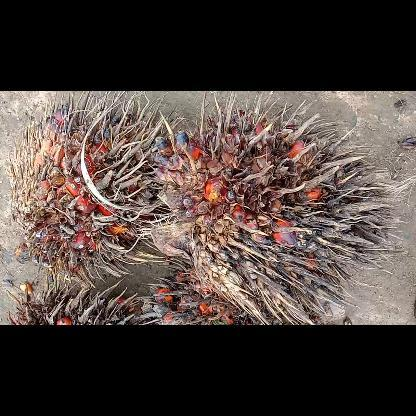Terlalu masak: (146, 90, 402, 324), (0, 91, 188, 294), (127, 256, 349, 324)
